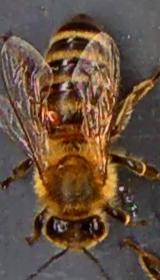varroa_mite: (35, 100, 66, 134)
